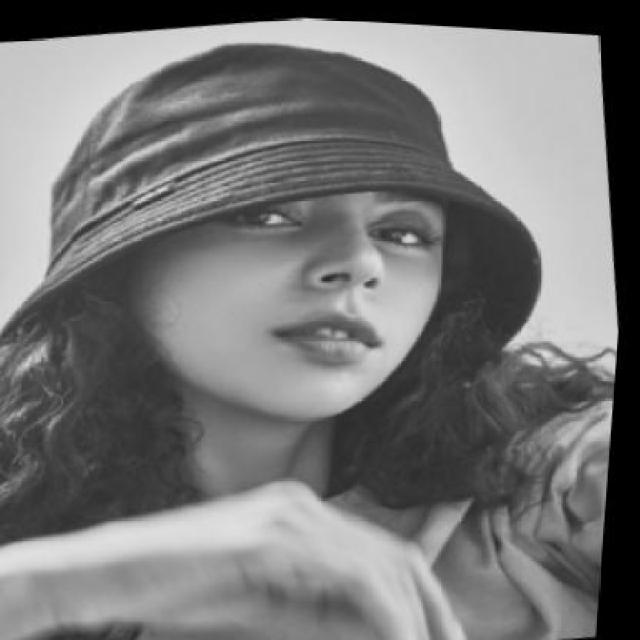hat: (0, 0, 585, 431)
